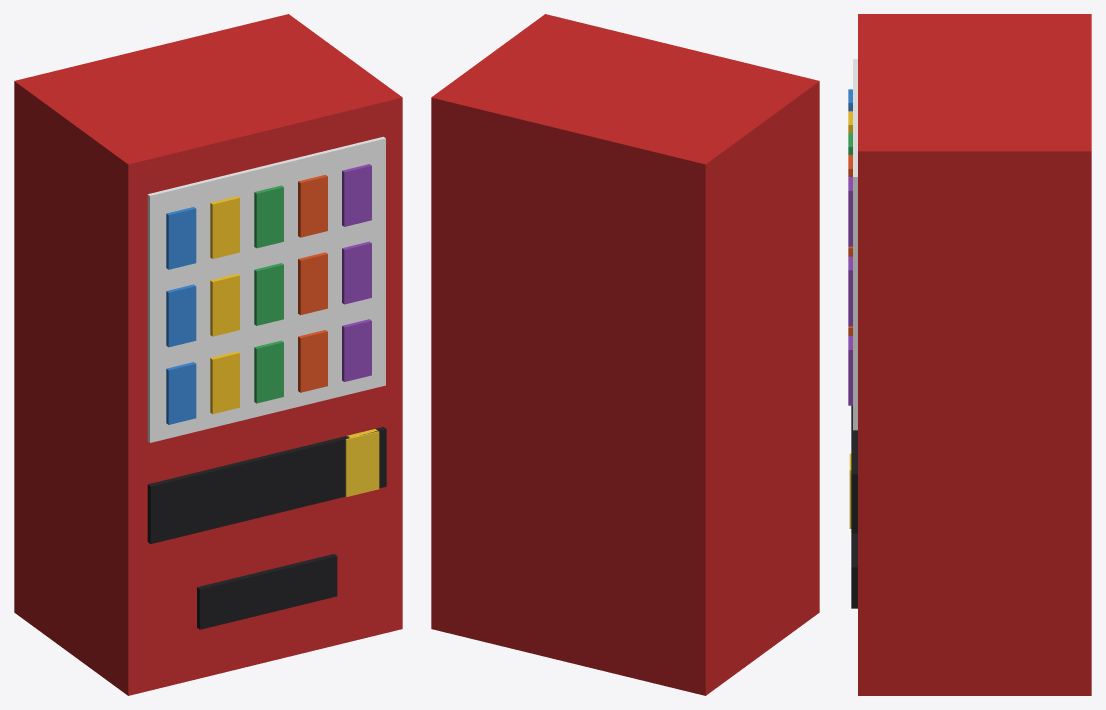
File: p_vending.glb
3 renders of one model, left to right at view 1: azimuth 30°, elevation 25°; view 2: azimuth 150°, elevation 25°; view 3: azimuth 270°, elevation 25°, orthographic. The views are drawn at different scales.
Parts seen in each view (by area): view 1: vending; view 2: vending; view 3: vending.
Boxes of the visible parts, <box> form: vending: <box>14,14,402,695</box>; vending: <box>431,14,819,695</box>; vending: <box>848,14,1091,695</box>.
Bounding box in the file's own units: 1 × 1.85 × 0.75.
